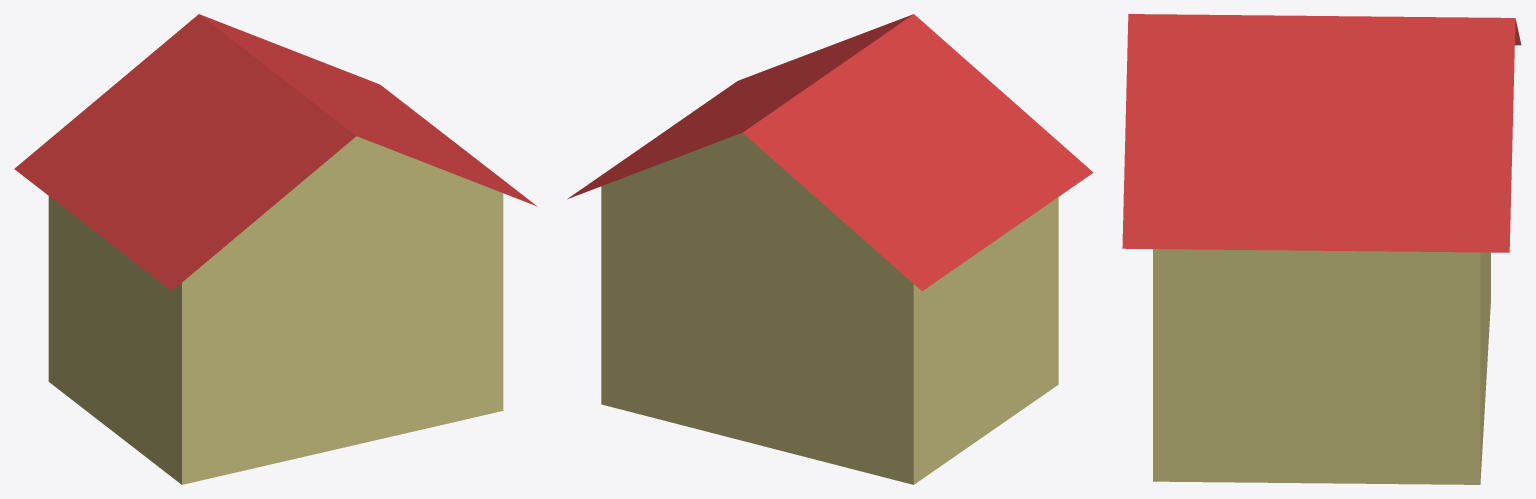
3 renders of one model, left to right at view 1: azimuth 30°, elevation 25°; view 2: azimuth 150°, elevation 25°; view 3: azimuth 270°, elevation 25°, orthographic. The views are drawn at different scales.
Bounding box in the file's own units: 12.51 × 9.99 × 10.43.
